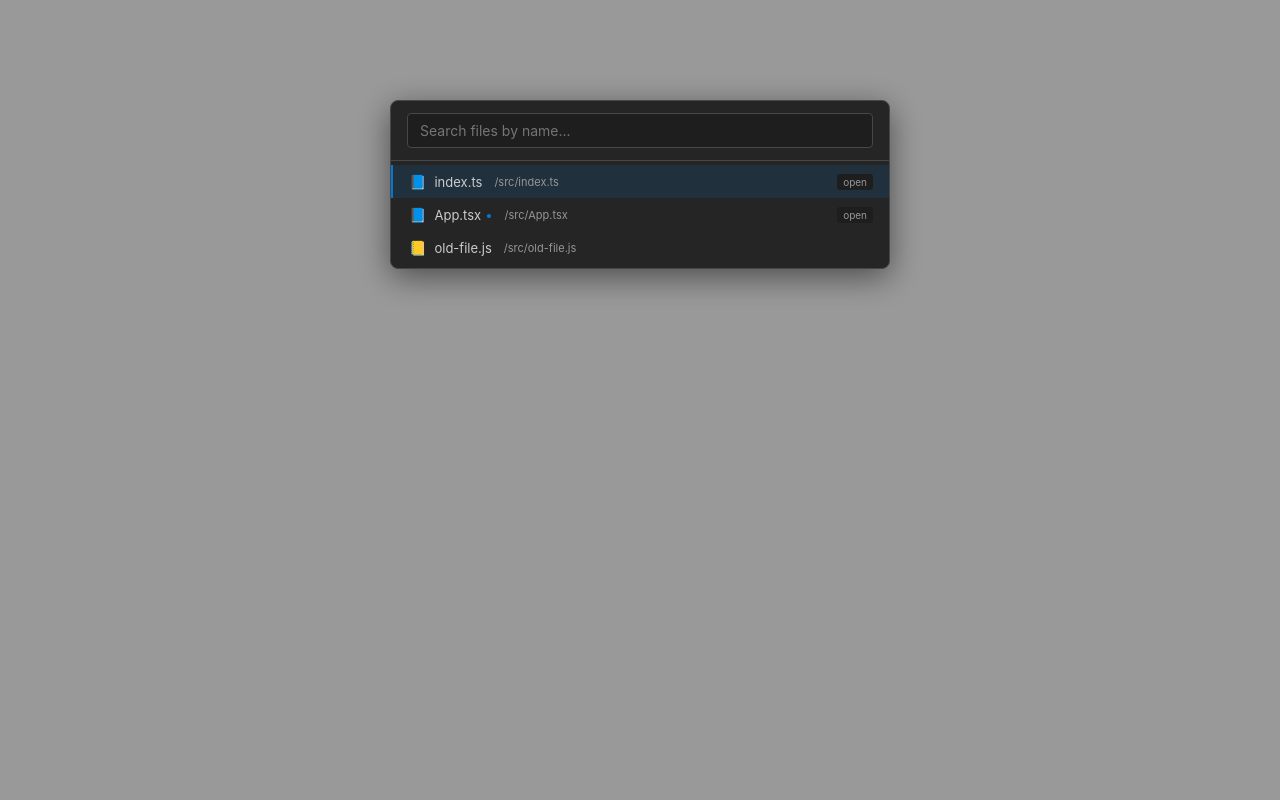
Scenario: QuickOpenViewPresenter › shows "No matching files" when no results
Type "zzzzzzzzz" into the field with placeholder "Search files by name..." at (640,130), box [407,113,873,148]
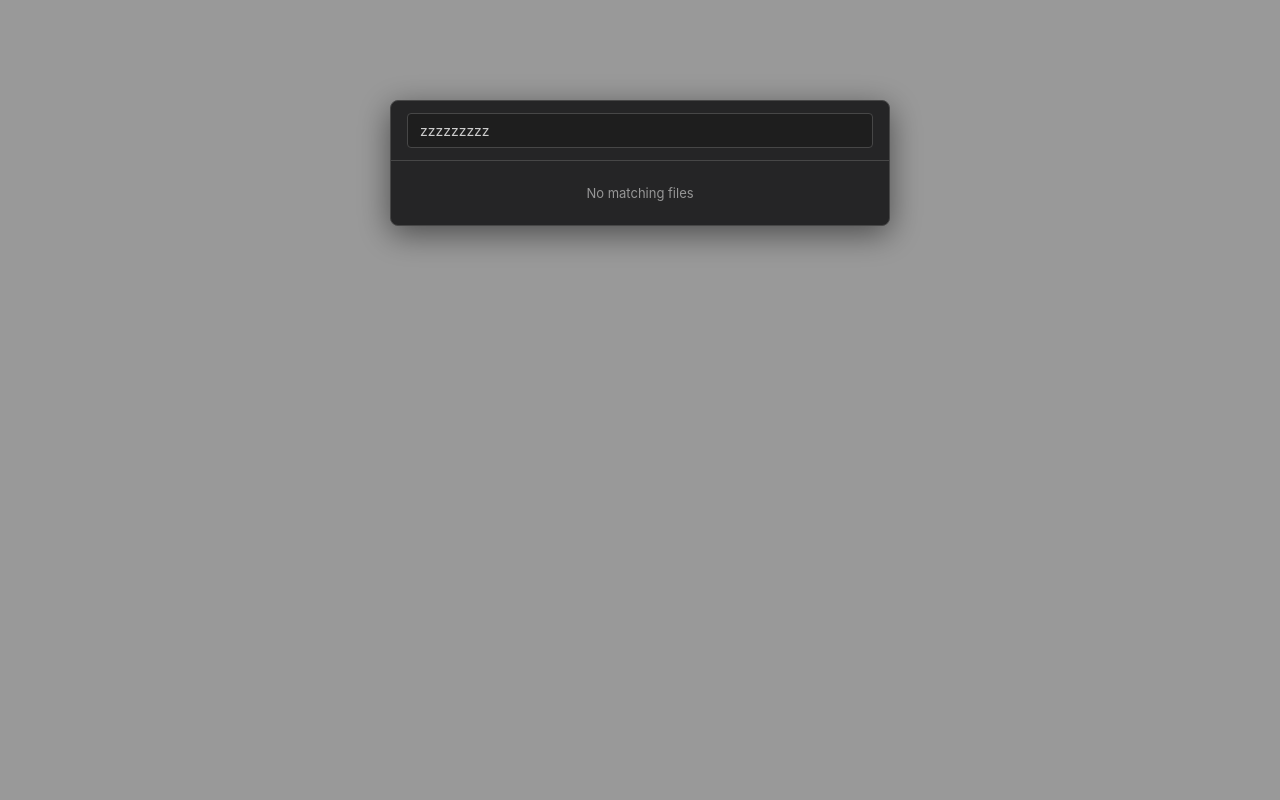
Expected: the text "No matching files" is shown, [586,185,694,201]
